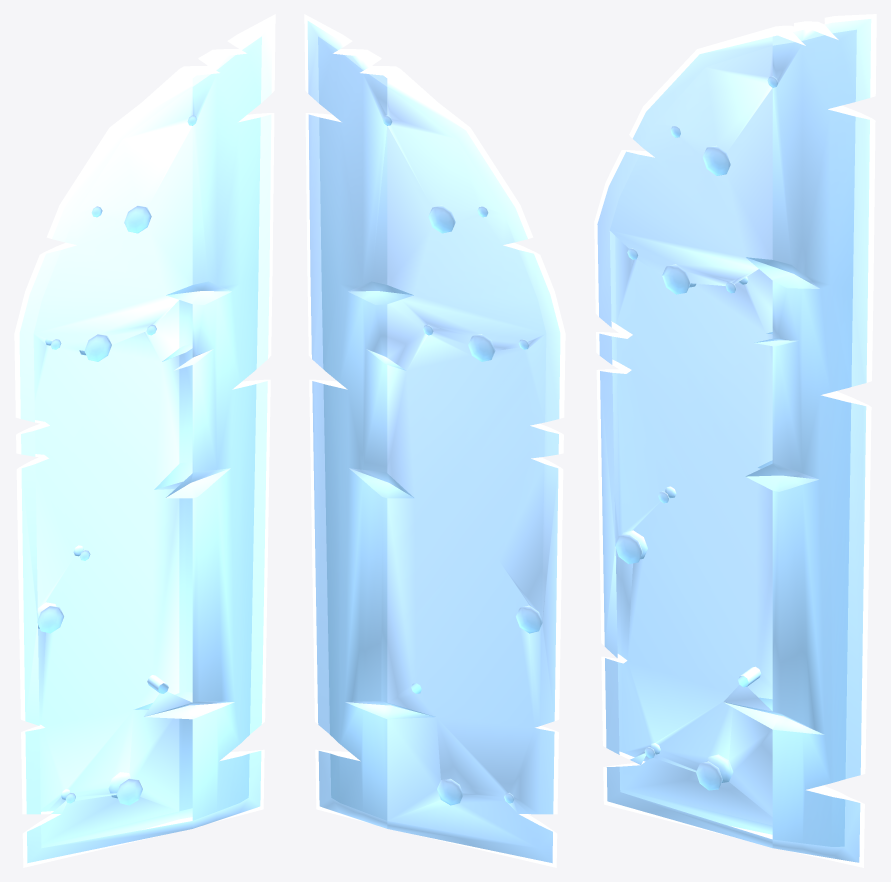
Rendered from steel_blade_bubbles_054.glb.
3 views of the same model, side by side, from view 1: azimuth 30°, elevation 25°; view 2: azimuth 150°, elevation 25°; view 3: azimuth 330°, elevation 25° (orthographic). The views are drawn at different scales.
Parts seen in each view (by area): view 1: steel_blade_bubbles.054; view 2: steel_blade_bubbles.054; view 3: steel_blade_bubbles.054.
Boxes of the visible parts, left/top/right/bottom form: steel_blade_bubbles.054: left=14, top=14, right=275, bottom=867; steel_blade_bubbles.054: left=304, top=14, right=565, bottom=867; steel_blade_bubbles.054: left=594, top=14, right=876, bottom=867.
Size of the model in its own units: 4.15 by 12.06 by 0.3631.
1 material, 1 textured.
